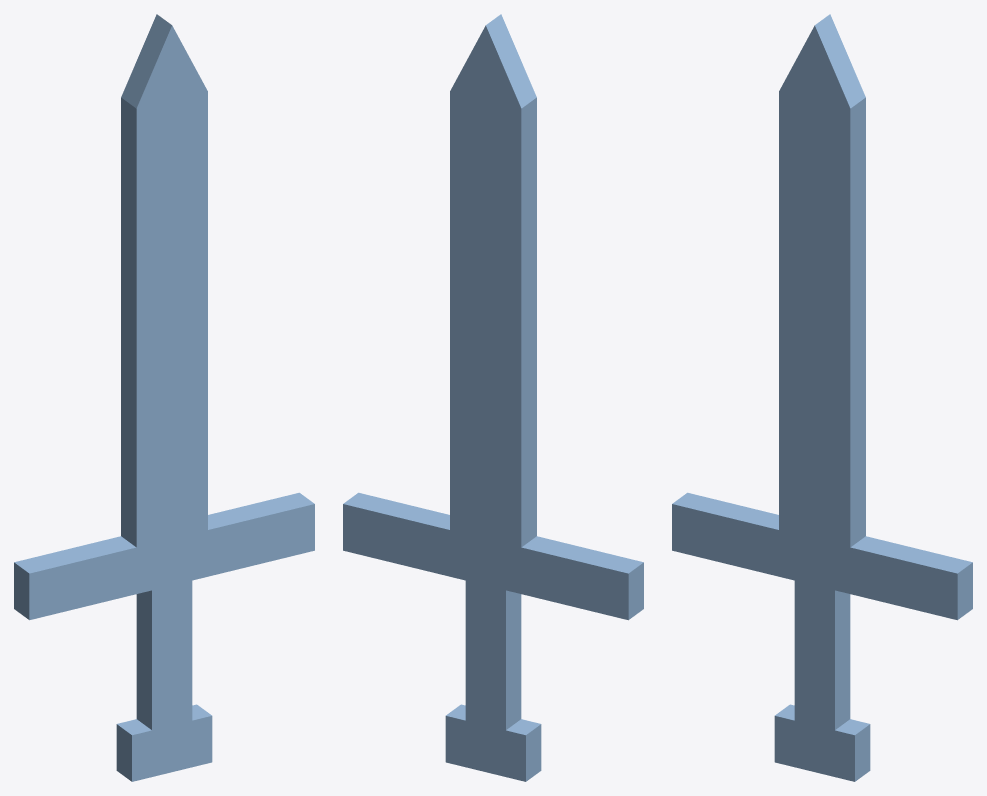
File: sword.glb
3 views of the same model, side by side, from view 1: azimuth 30°, elevation 25°; view 2: azimuth 150°, elevation 25°; view 3: azimuth 330°, elevation 25° (orthographic).
Parts seen in each view (by area): view 1: Sword; view 2: Sword; view 3: Sword.
Part boxes in pixels (x1,y1,x2,y2): Sword: [14, 14, 314, 781]; Sword: [343, 14, 643, 781]; Sword: [672, 14, 972, 781].
Size of the model in its own units: 0.64 by 1.6 by 0.06.
